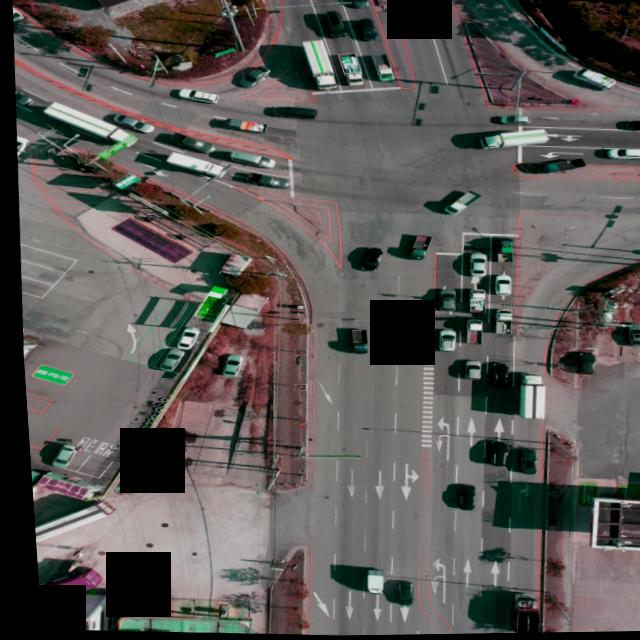car: (225, 151, 273, 170), (228, 175, 281, 192), (108, 115, 153, 135), (259, 108, 315, 124), (232, 67, 268, 89), (42, 443, 71, 468), (321, 10, 345, 37), (174, 90, 217, 105), (172, 137, 212, 153), (170, 327, 195, 351), (150, 349, 177, 371), (446, 485, 467, 513), (355, 248, 379, 272), (478, 442, 500, 468), (481, 363, 502, 389), (509, 449, 529, 476), (355, 20, 377, 44), (570, 352, 591, 376), (383, 582, 403, 607), (462, 256, 482, 280), (430, 331, 450, 355), (214, 356, 235, 378), (621, 329, 640, 352), (12, 88, 35, 106), (603, 149, 640, 160), (432, 291, 450, 313), (489, 275, 507, 296), (457, 362, 475, 383), (493, 115, 527, 126), (618, 121, 640, 134), (13, 135, 26, 155), (348, 0, 369, 10)
medium_truck: (37, 103, 136, 149), (27, 505, 108, 547), (294, 40, 337, 94), (158, 150, 222, 178), (476, 130, 546, 153), (508, 374, 539, 422), (498, 595, 526, 635)
small_truck: (568, 69, 614, 92), (533, 157, 585, 177), (436, 193, 476, 218), (367, 53, 393, 84), (338, 57, 364, 88), (219, 120, 264, 135), (402, 235, 428, 260), (453, 321, 476, 348), (354, 570, 376, 595), (488, 309, 508, 336), (491, 240, 512, 265), (342, 330, 362, 356), (459, 291, 479, 314)
